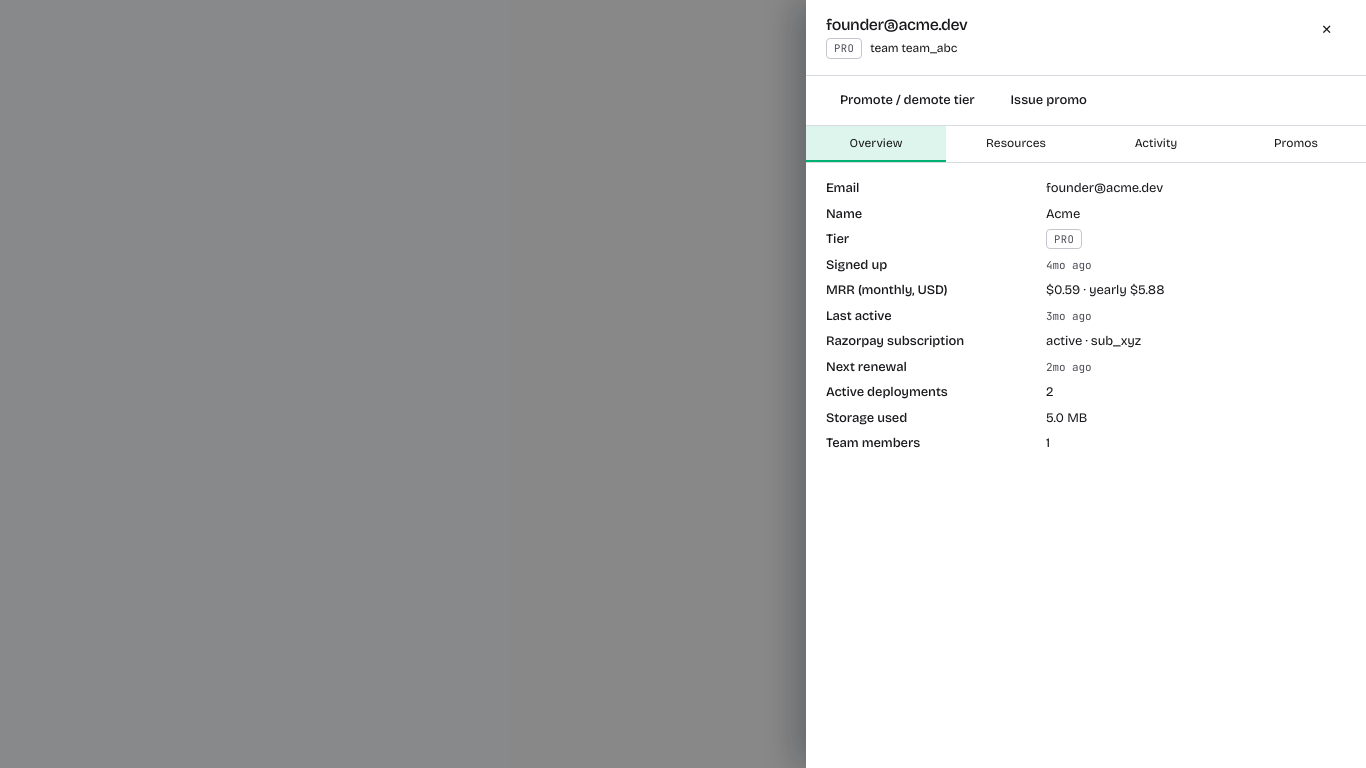
Scenario: CustomerDetailDrawer › renders populated resources/activity/promos
Expected: the element with test id "drawer-overview" is shown, [826,179,1346,454]
Step 1. Click the tab with test id "drawer-tab-resources" → click(1016, 144), box [946,126,1086,162]
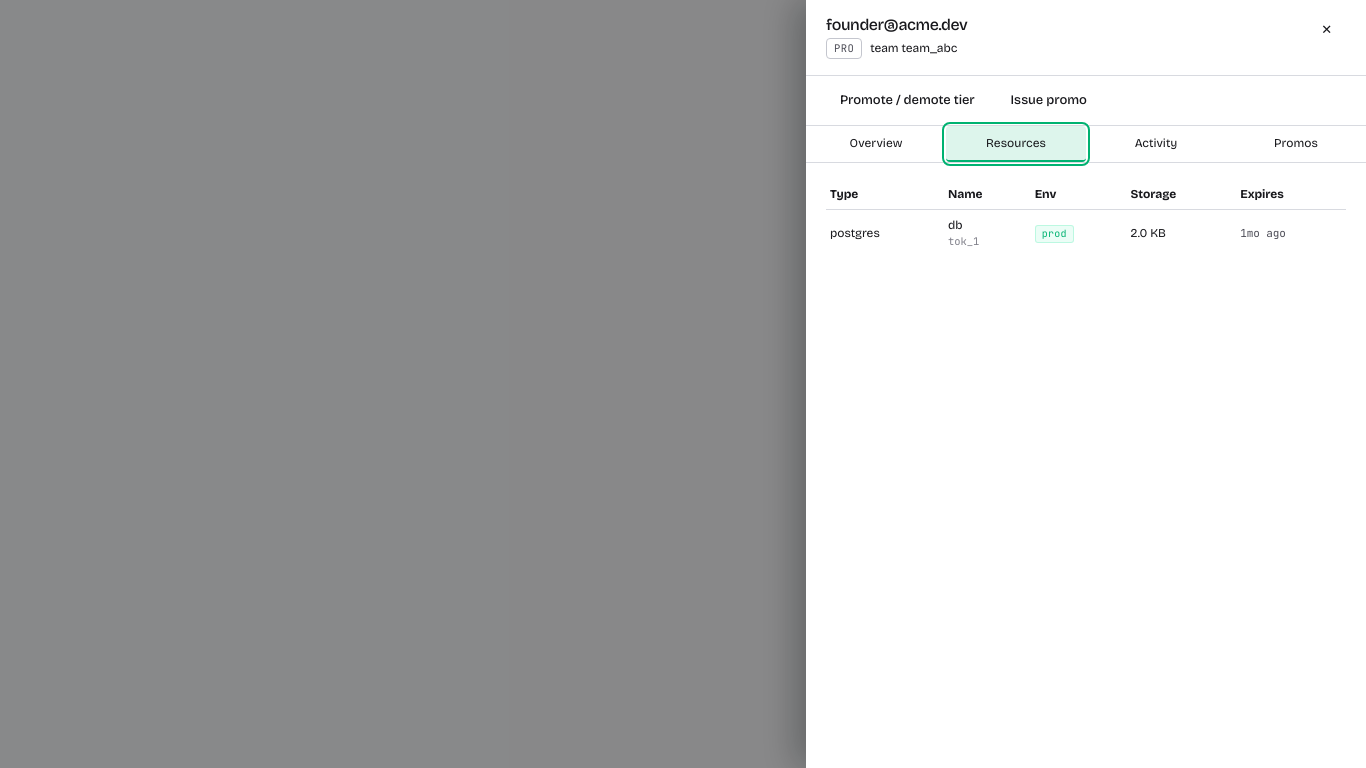
Expected: the row with test id "drawer-resource-r1" is shown, [826,210,1346,256]
Step 2. Click the tab with test id "drawer-tab-activity" → click(1156, 144), box [1086,126,1226,162]
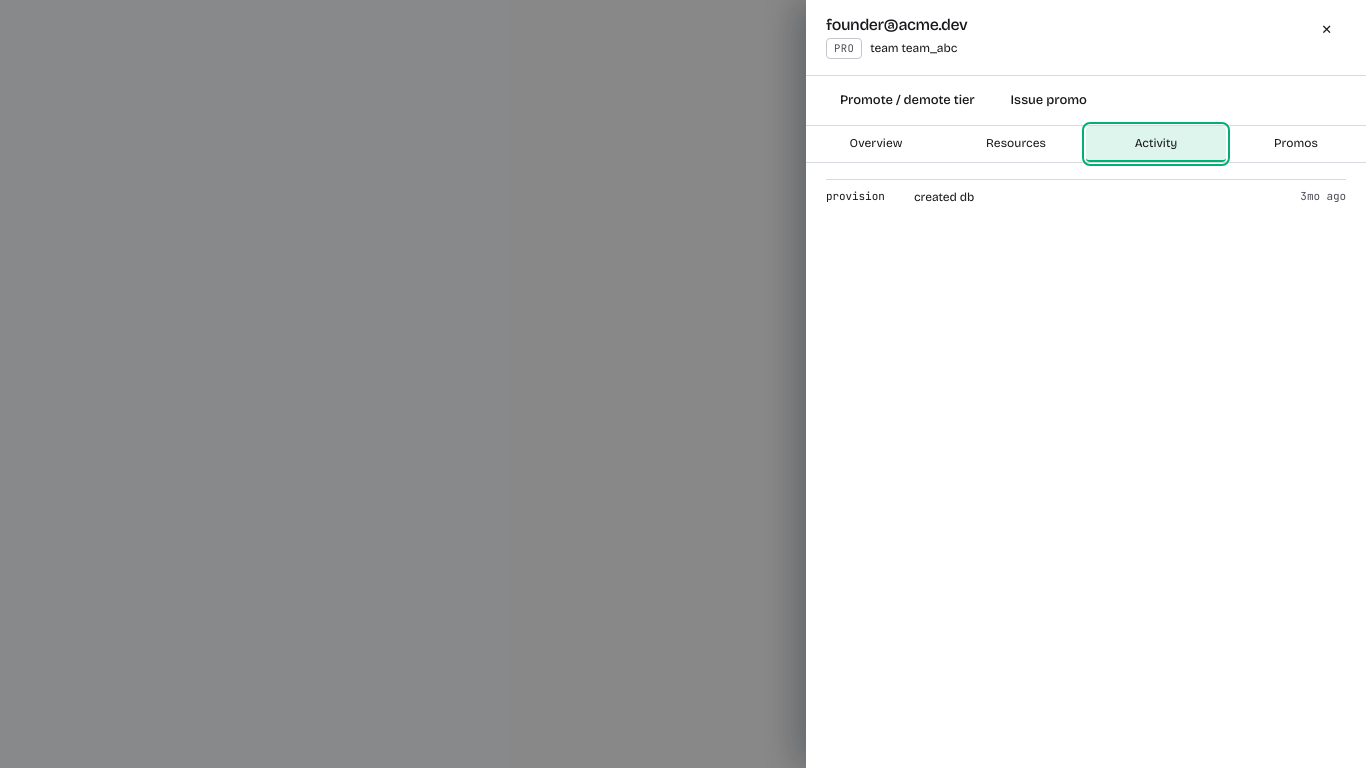
Expected: the list item with test id "drawer-activity-row-a1" is shown, [826,179,1346,214]
Step 3. Click the tab with test id "drawer-tab-promos" → click(1296, 144), box [1226,126,1365,162]
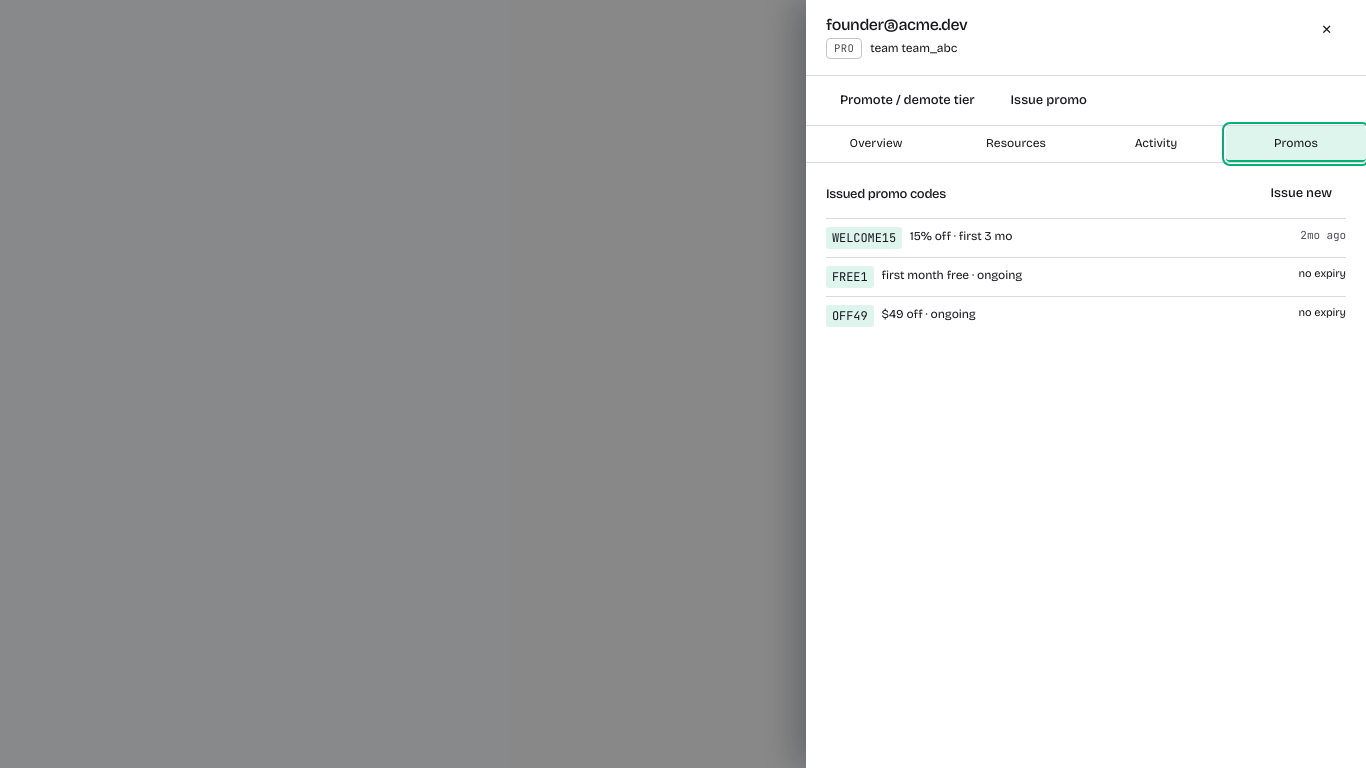
Expected: the text "WELCOME15" is shown, [826,227,902,249]
Expected: the text "15% off · first 3 mo" is shown, [910,229,1012,243]
Expected: the text "first month free · ongoing" is shown, [882,268,1022,282]
